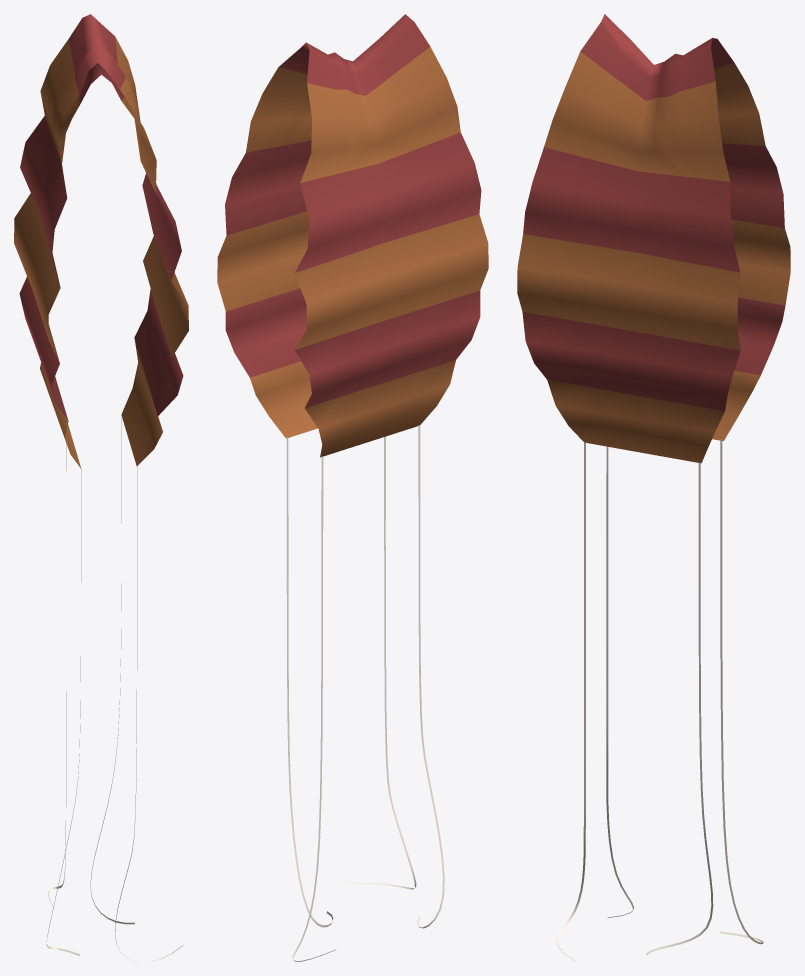
Rendered from parachute.fbx.
3 views of the same model, side by side, from view 1: azimuth 30°, elevation 25°; view 2: azimuth 150°, elevation 25°; view 3: azimuth 270°, elevation 25° (orthographic). The views are drawn at different scales.
Parts seen in each view (by area): view 1: parachute_2:pPlane1, pPlane1, pPlane5, pPlane3; view 2: parachute_2:pPlane1, pPlane3, pPlane5, pPlane4, pPlane1; view 3: parachute_2:pPlane1, pPlane4, pPlane5, pPlane3, pPlane1.
Part boxes in pixels (<box>): parachute_2:pPlane1: <box>14,14,188,468</box>; pPlane1: <box>115,465,183,961</box>; pPlane5: <box>90,414,134,924</box>; pPlane3: <box>46,469,81,955</box>; parachute_2:pPlane1: <box>217,14,488,457</box>; pPlane3: <box>417,425,444,928</box>; pPlane5: <box>286,437,333,927</box>; pPlane4: <box>292,456,335,961</box>; pPlane1: <box>347,436,416,889</box>; parachute_2:pPlane1: <box>517,14,790,463</box>; pPlane4: <box>719,439,763,944</box>; pPlane5: <box>646,462,713,955</box>; pPlane3: <box>606,446,633,918</box>; pPlane1: <box>556,442,585,961</box>.
Size of the model in its own units: 65.46 by 297 by 80.64.
Materials: 3 (3 with a texture image).
